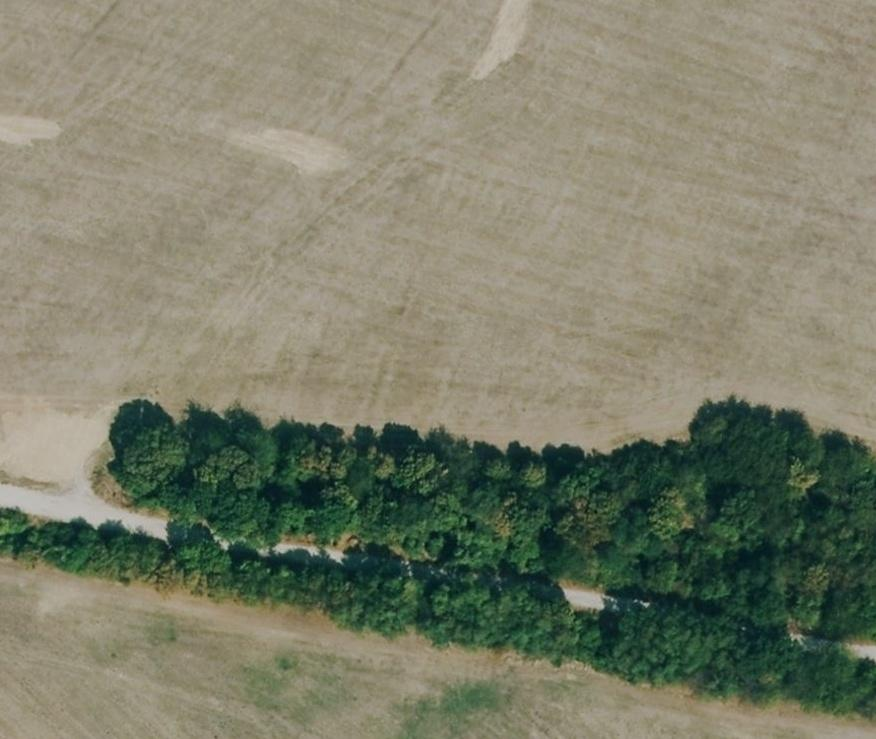field: (0, 2, 876, 493), (0, 559, 876, 737)
forest: (110, 399, 876, 639), (0, 509, 876, 716)
